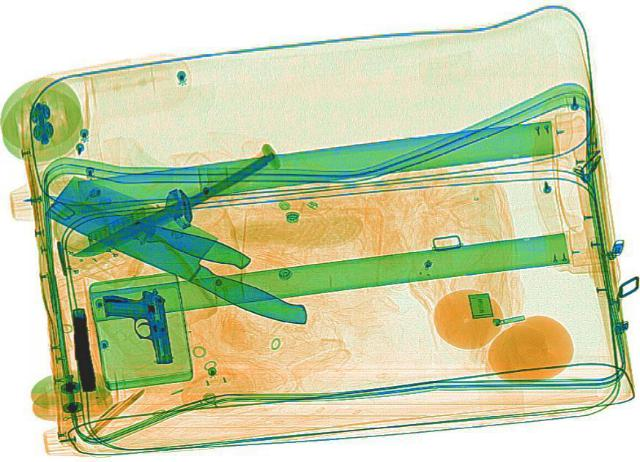Gun: (99, 287, 173, 364), (66, 306, 96, 389)
Knife: (28, 170, 342, 330), (66, 155, 280, 261), (37, 184, 253, 270)
